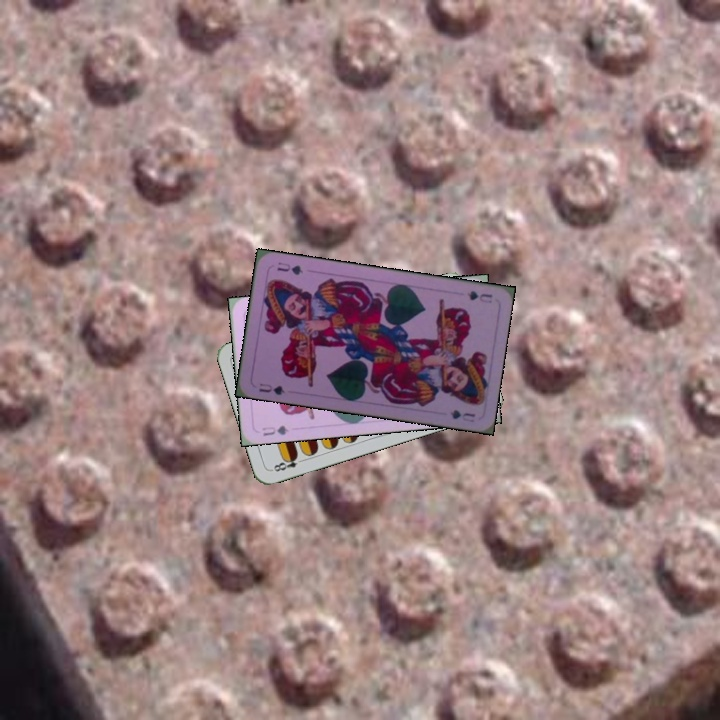E8: (268, 451, 307, 474)
GU: (255, 379, 287, 398), (463, 287, 495, 306), (258, 421, 291, 439)
